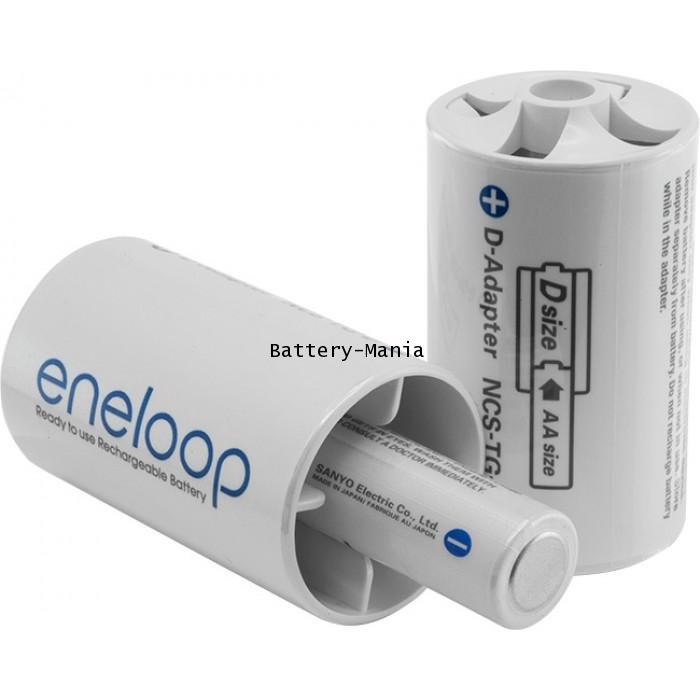Battery: (295, 414, 580, 634)
